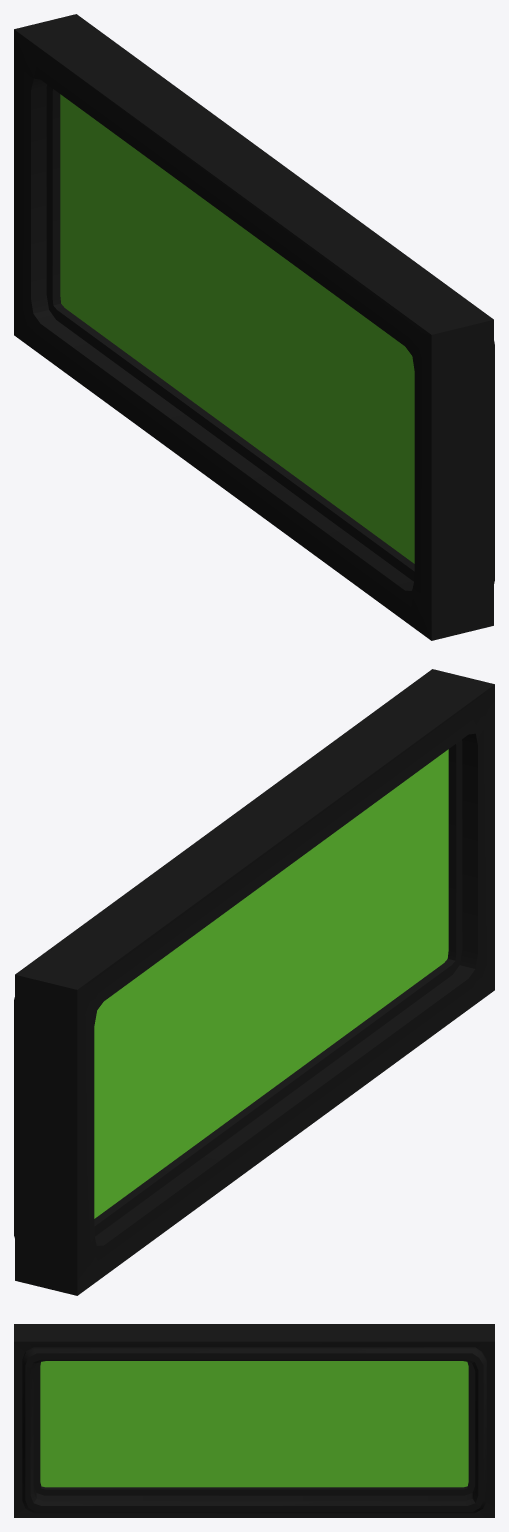
File: RoomWindow.fbx
3 views of the same model, one above another, from view 1: azimuth 30°, elevation 25°; view 2: azimuth 150°, elevation 25°; view 3: azimuth 270°, elevation 25° (orthographic). The views are drawn at different scales.
Parts seen in each view (by area): view 1: window, Window006; view 2: window, Window006; view 3: Window006, window.
Part boxes in pixels (box(x1,y1,x2,y2)): window: box(14, 14, 494, 640); Window006: box(60, 94, 414, 563); window: box(14, 669, 494, 1295); Window006: box(94, 749, 448, 1218); Window006: box(40, 1361, 468, 1487); window: box(14, 1324, 494, 1517).
Size of the model in its own units: 35.56 by 349 by 141.
